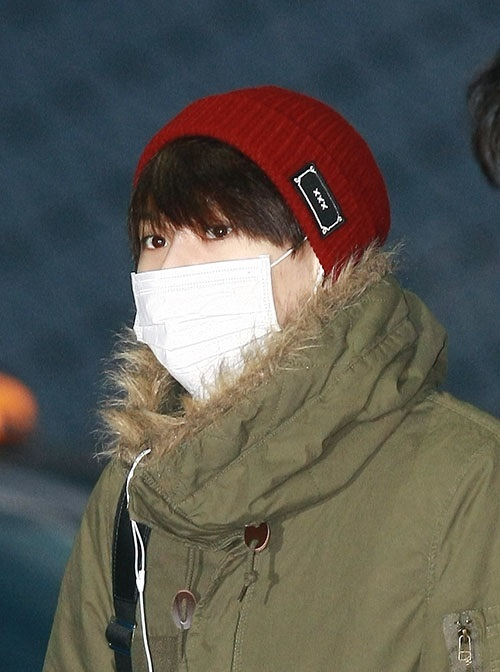face_mask: (129, 169, 302, 408)
